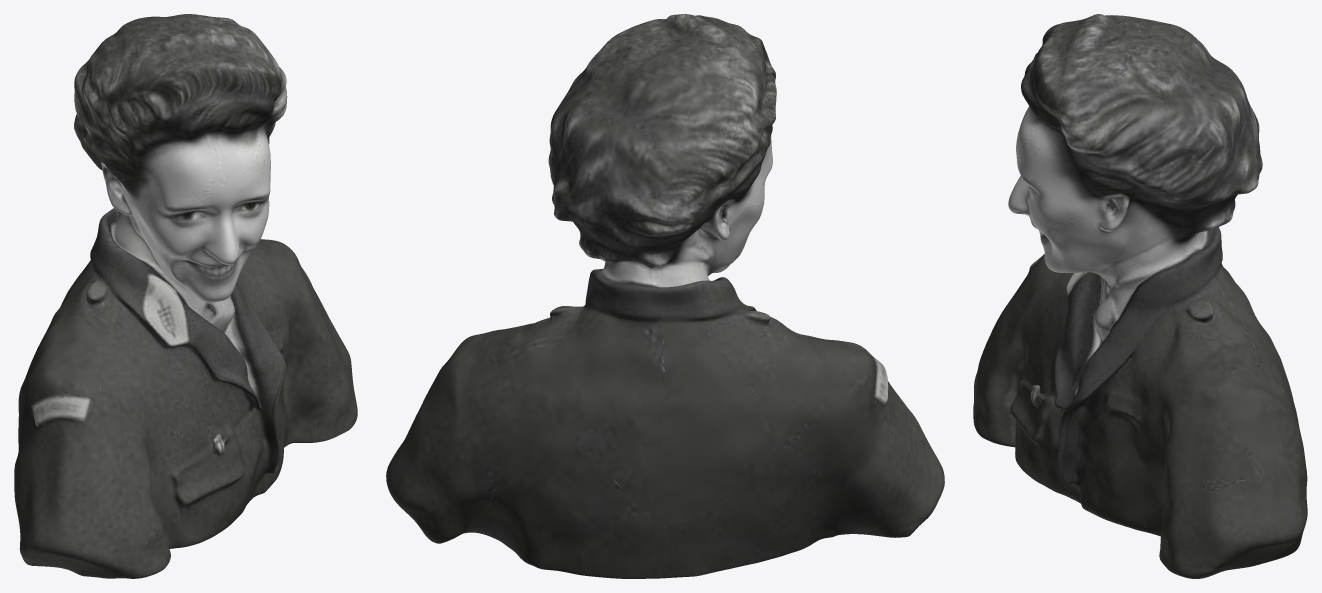
The model's file is eve_curie.glb.
The picture shows the model from 3 angles, left to right: view 1: azimuth 30°, elevation 25°; view 2: azimuth 150°, elevation 25°; view 3: azimuth 270°, elevation 25°; orthographic projection. The views are drawn at different scales.
Size of the model in its own units: 1.78 by 1.9 by 1.25.
Materials: 1 (1 with a texture image).
